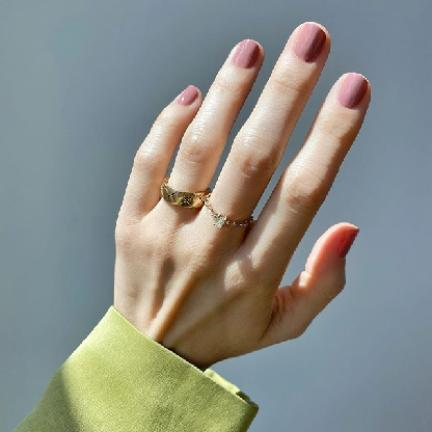Nail: (293, 22, 327, 63), (338, 73, 368, 109), (232, 39, 260, 69), (336, 226, 359, 259), (177, 87, 199, 106)
